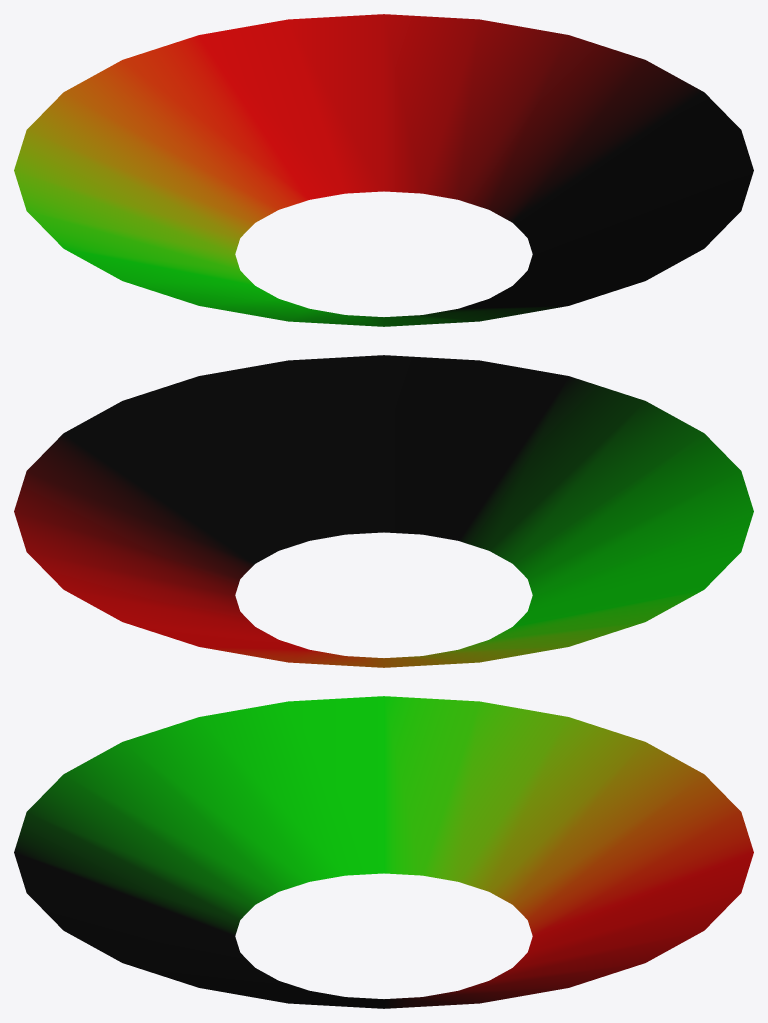
The model's file is uni_hitfan.fbx.
The picture shows the model from 3 angles, top to bottom: view 1: azimuth 30°, elevation 25°; view 2: azimuth 150°, elevation 25°; view 3: azimuth 270°, elevation 25°; orthographic projection.
Parts seen in each view (by area): view 1: uni_hitfan; view 2: uni_hitfan; view 3: uni_hitfan.
Part boxes in pixels (x1,y1,x2,y2): uni_hitfan: (14, 14, 753, 326); uni_hitfan: (14, 355, 753, 667); uni_hitfan: (14, 696, 753, 1008).
Size of the model in its own units: 25600 by 3200 by 25600.
